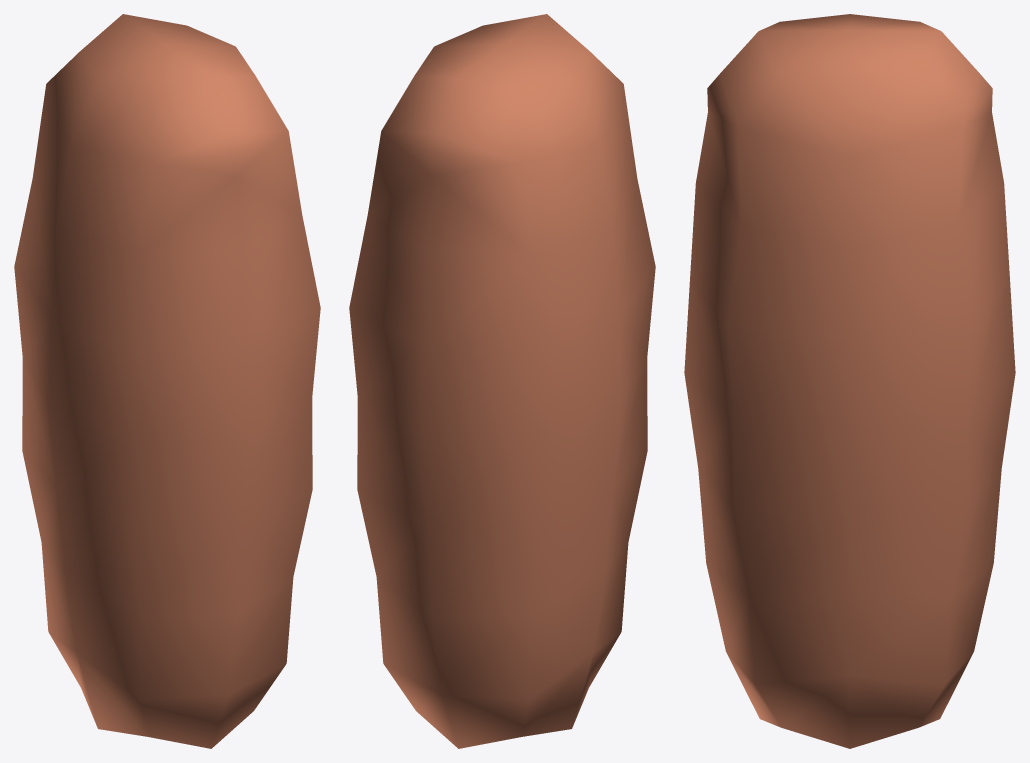
The model's file is upper_leg.dae.
The picture shows the model from 3 angles, left to right: view 1: azimuth 30°, elevation 25°; view 2: azimuth 150°, elevation 25°; view 3: azimuth 270°, elevation 25°; orthographic projection. The views are drawn at different scales.
Parts seen in each view (by area): view 1: Plane; view 2: Plane; view 3: Plane.
Part boxes in pixels (x1=…): Plane: x1=14, y1=14, x2=320, y2=748; Plane: x1=349, y1=14, x2=655, y2=748; Plane: x1=684, y1=14, x2=1015, y2=748.
Size of the model in its own units: 0.3675 by 0.432 by 1.02.
